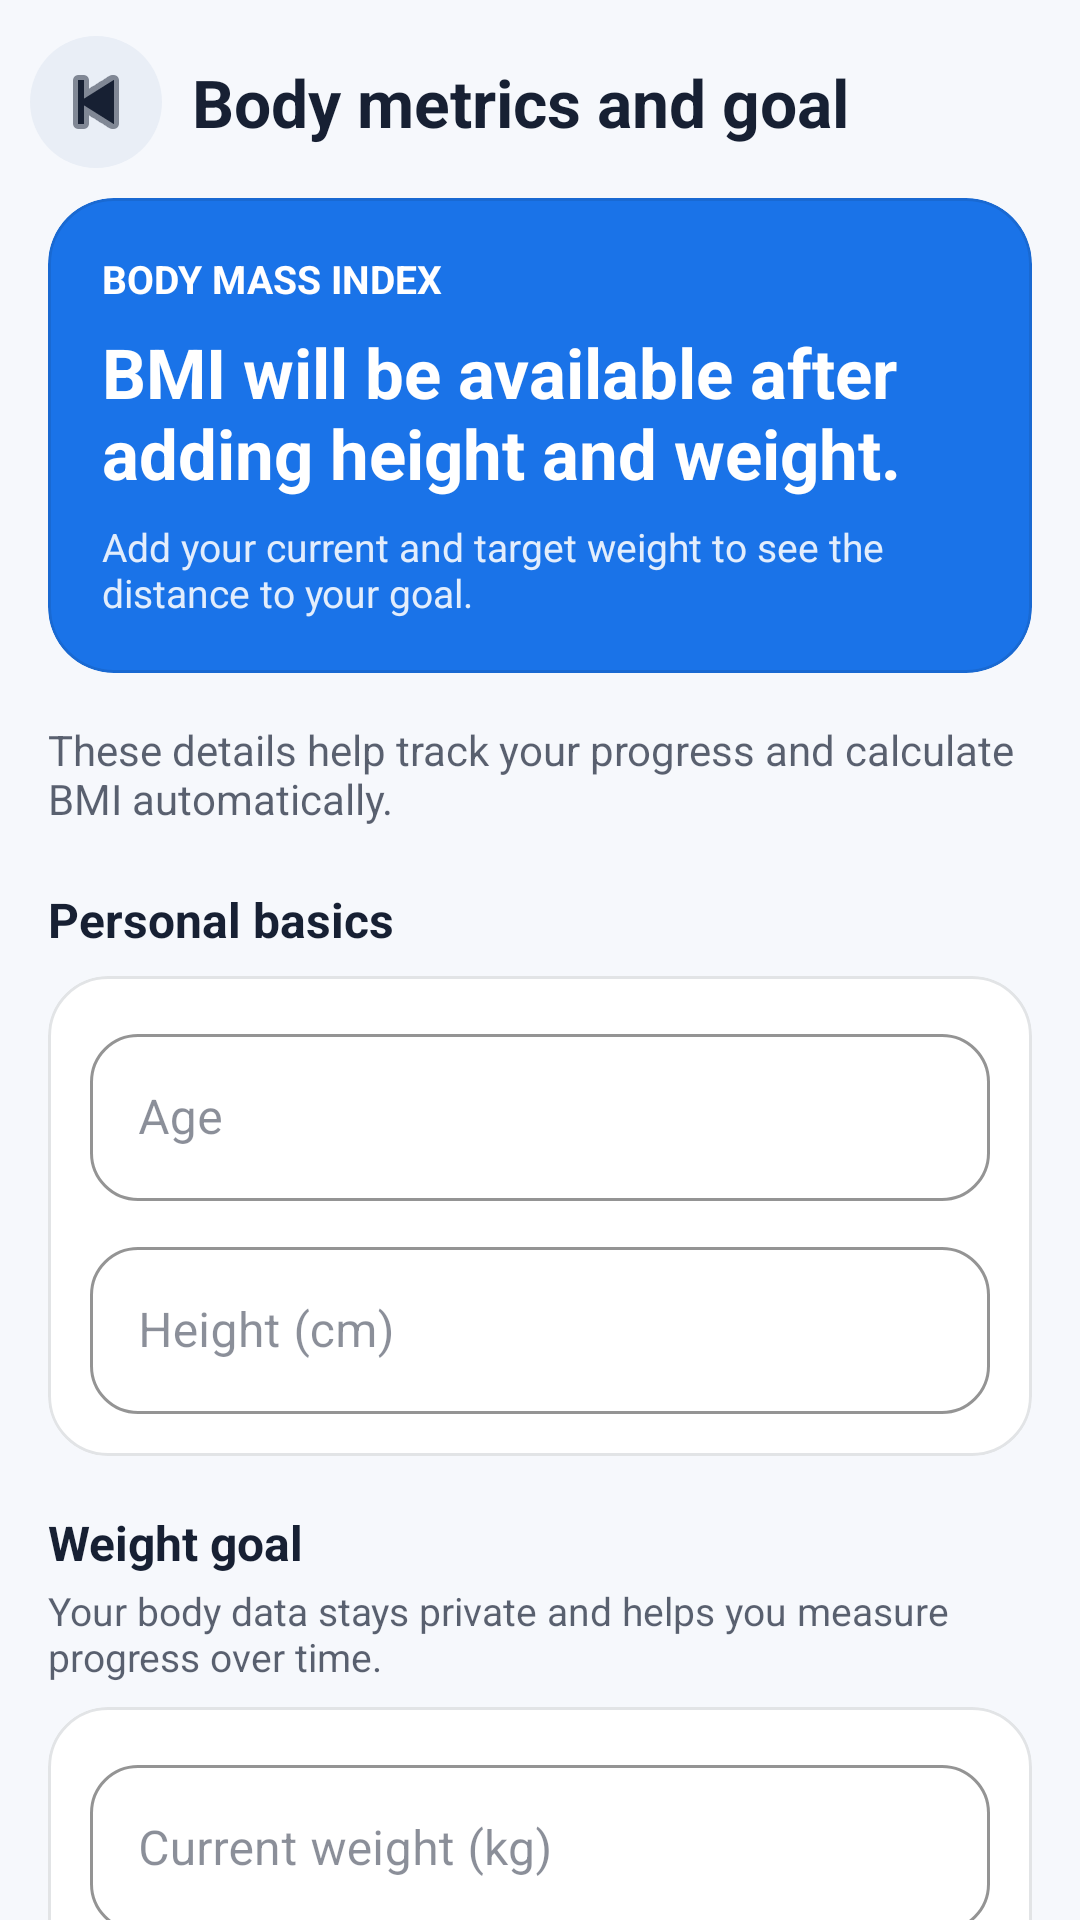

Named icons in this screenshot (1080 x 1920) and their centers, [x,y]:
Back: [96,102]
